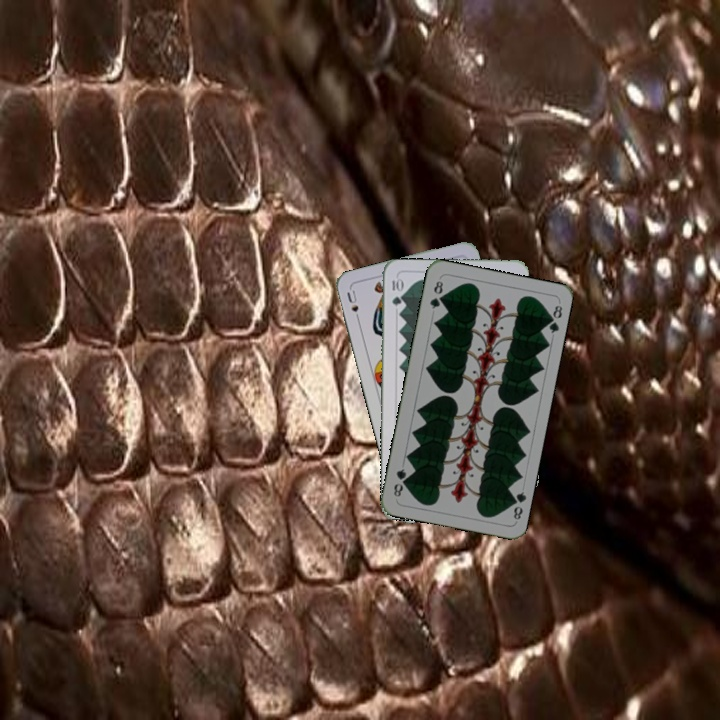G10: (388, 274, 403, 308)
G8: (506, 487, 528, 524), (426, 277, 446, 311)
SU: (343, 286, 363, 325)
